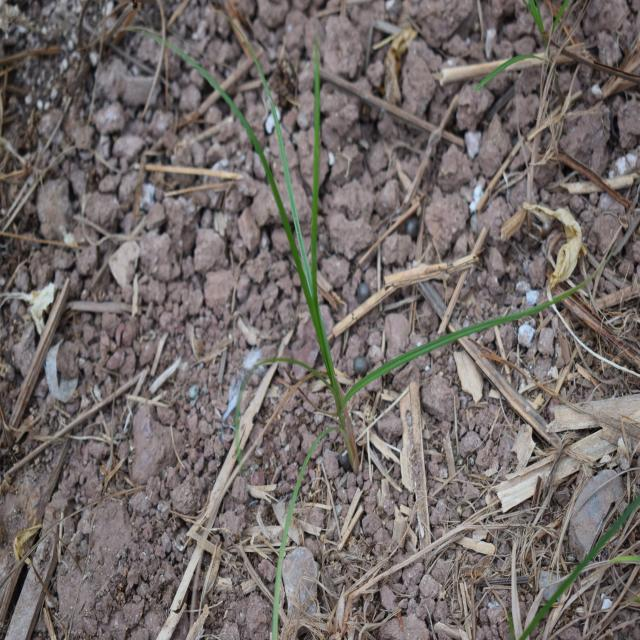sedge: (160, 54, 388, 476)
